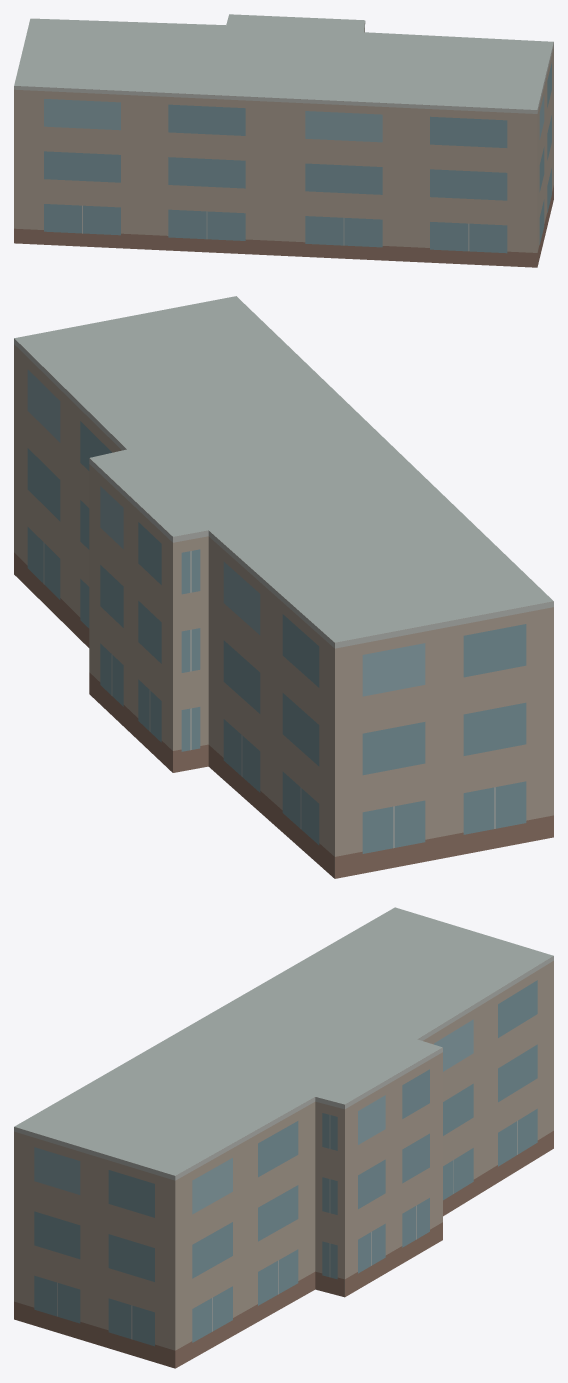
File: survey-upis-32629652.glb
3 renders of one model, top to bottom at view 1: azimuth 30°, elevation 25°; view 2: azimuth 150°, elevation 25°; view 3: azimuth 270°, elevation 25°, orthographic. The views are drawn at different scales.
Parts seen in each view (by area): view 1: survey-upis-32629652.tmp; view 2: survey-upis-32629652.tmp; view 3: survey-upis-32629652.tmp.
Boxes of the visible parts, x1=… form: survey-upis-32629652.tmp: x1=14, y1=14, x2=553, y2=267; survey-upis-32629652.tmp: x1=14, y1=296, x2=553, y2=878; survey-upis-32629652.tmp: x1=14, y1=907, x2=553, y2=1368.
Bounding box in the file's own units: 29.3 × 9.8 × 24.89.
